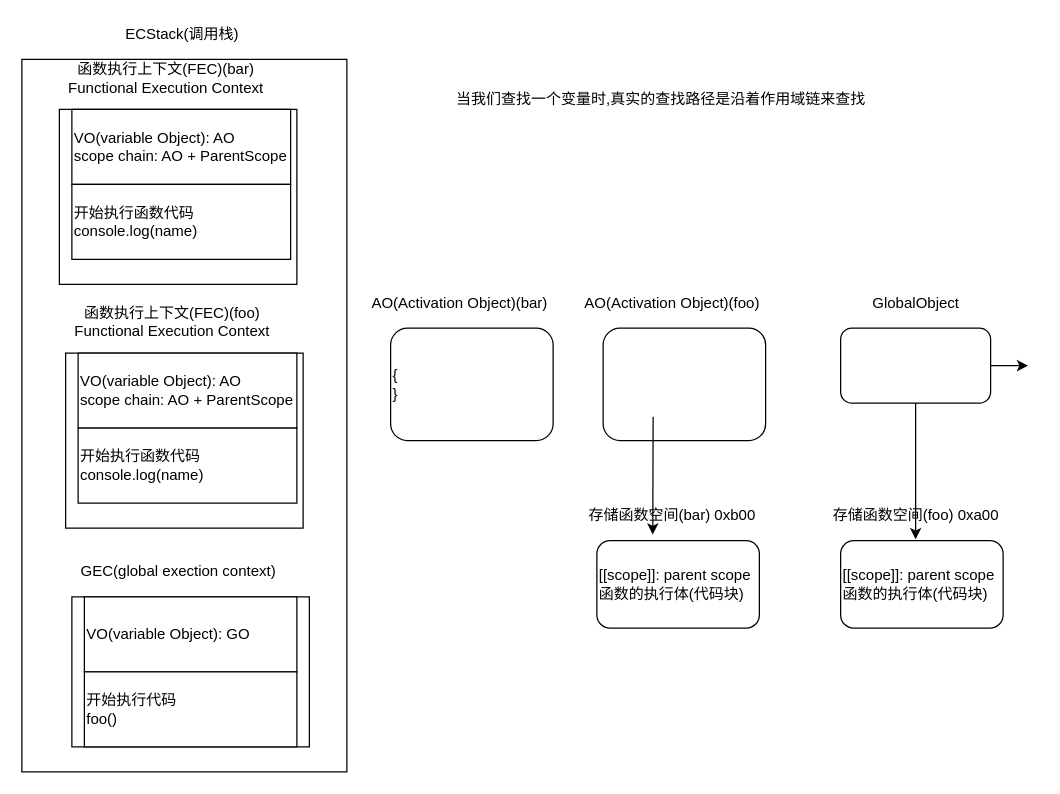
Image size: 1060x794. Some labels were removed from this diagram. Each missing label, with the box of its shape:
{ name: "why" foo: 0xa00 }: (839, 327, 991, 403)
{ num: 123 m: 10 n: 20 bar: 0xb00 }: (602, 327, 766, 441)
